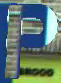Parking: (4, 2, 55, 82)
